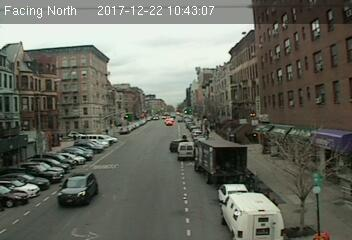car: (56, 172, 100, 206)
truck: (222, 194, 288, 240), (193, 138, 249, 182), (177, 141, 196, 161)
